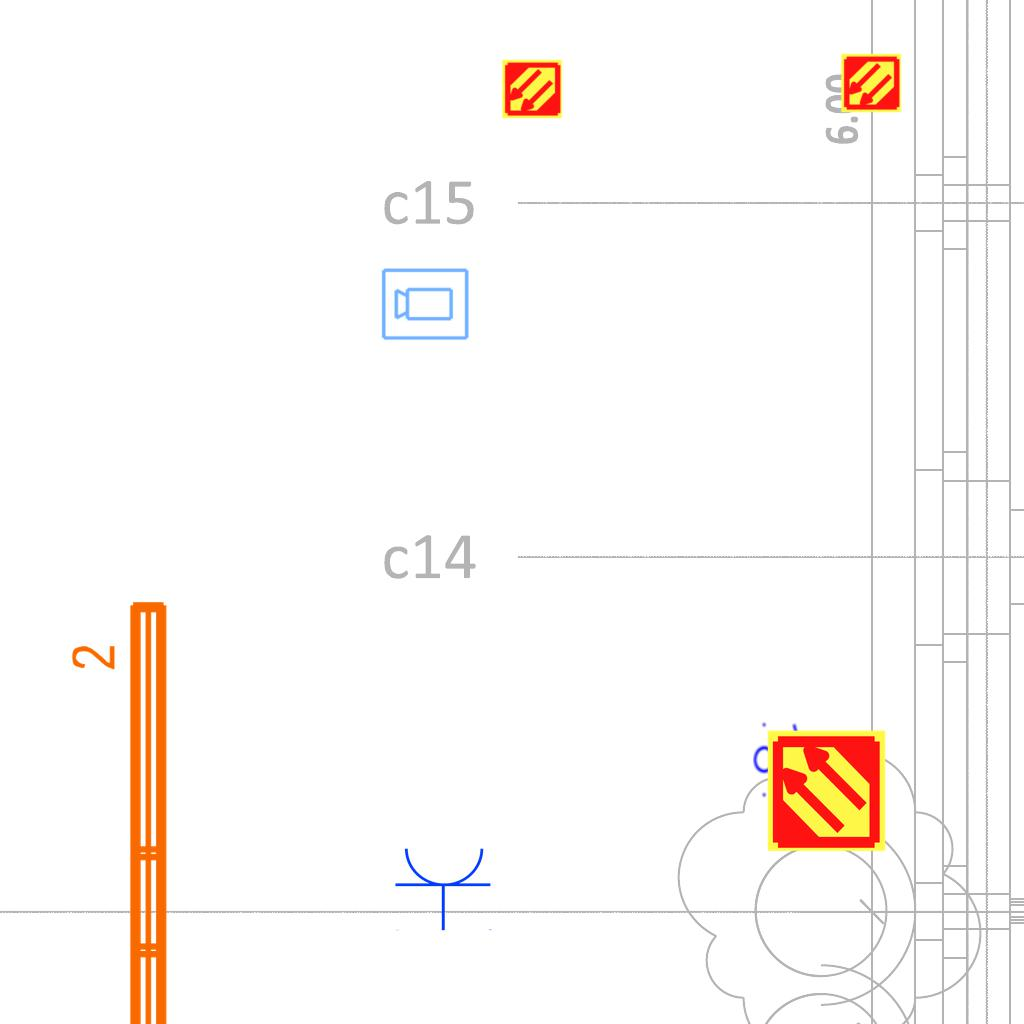ASR_Ansaugrauchmelder: (764, 728, 889, 853), (501, 58, 563, 120), (840, 52, 902, 114)
Ambulanz_Pendelleuchte_LED: (67, 593, 179, 1024)
KFO_Kamera_mit_Festobjektiv: (380, 265, 471, 342)
Schukosteckdose_einfach: (394, 844, 494, 931)
Serienschalter: (753, 717, 801, 801)
